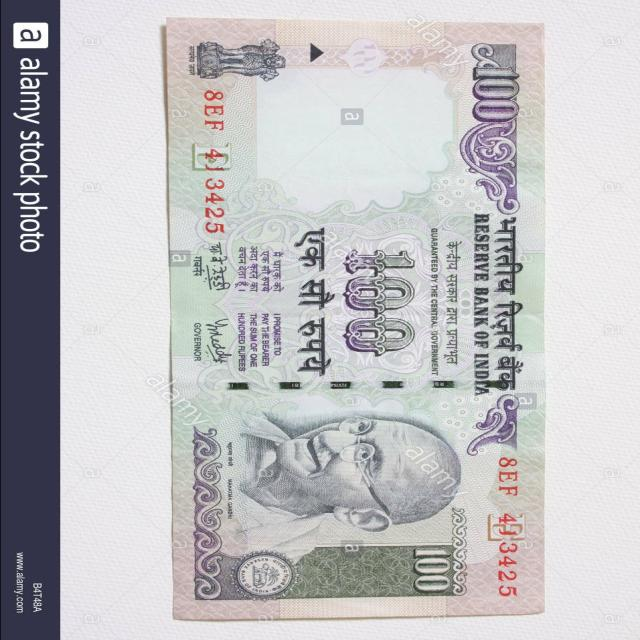100IndianRupees: (178, 24, 550, 613)
